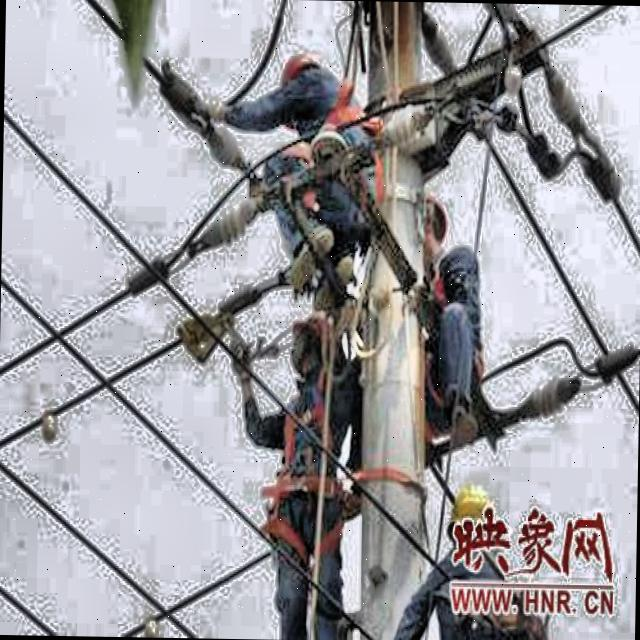helmet: (287, 309, 342, 383), (280, 44, 328, 97)
